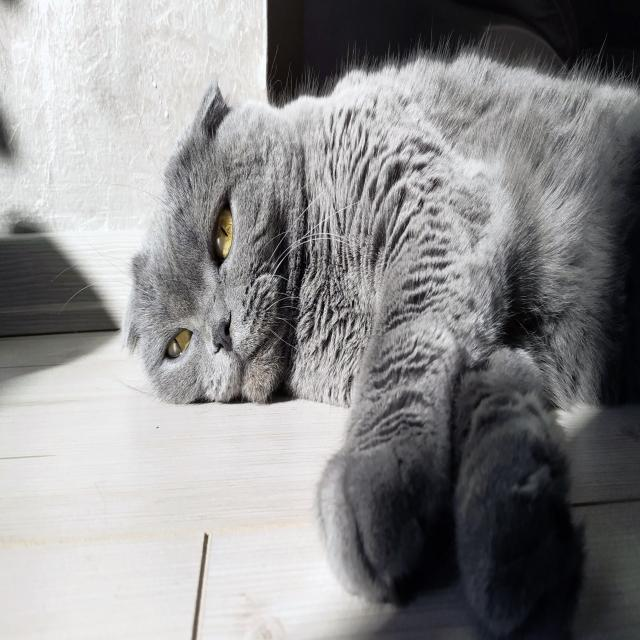Scottish Fold: (122, 42, 640, 639)
